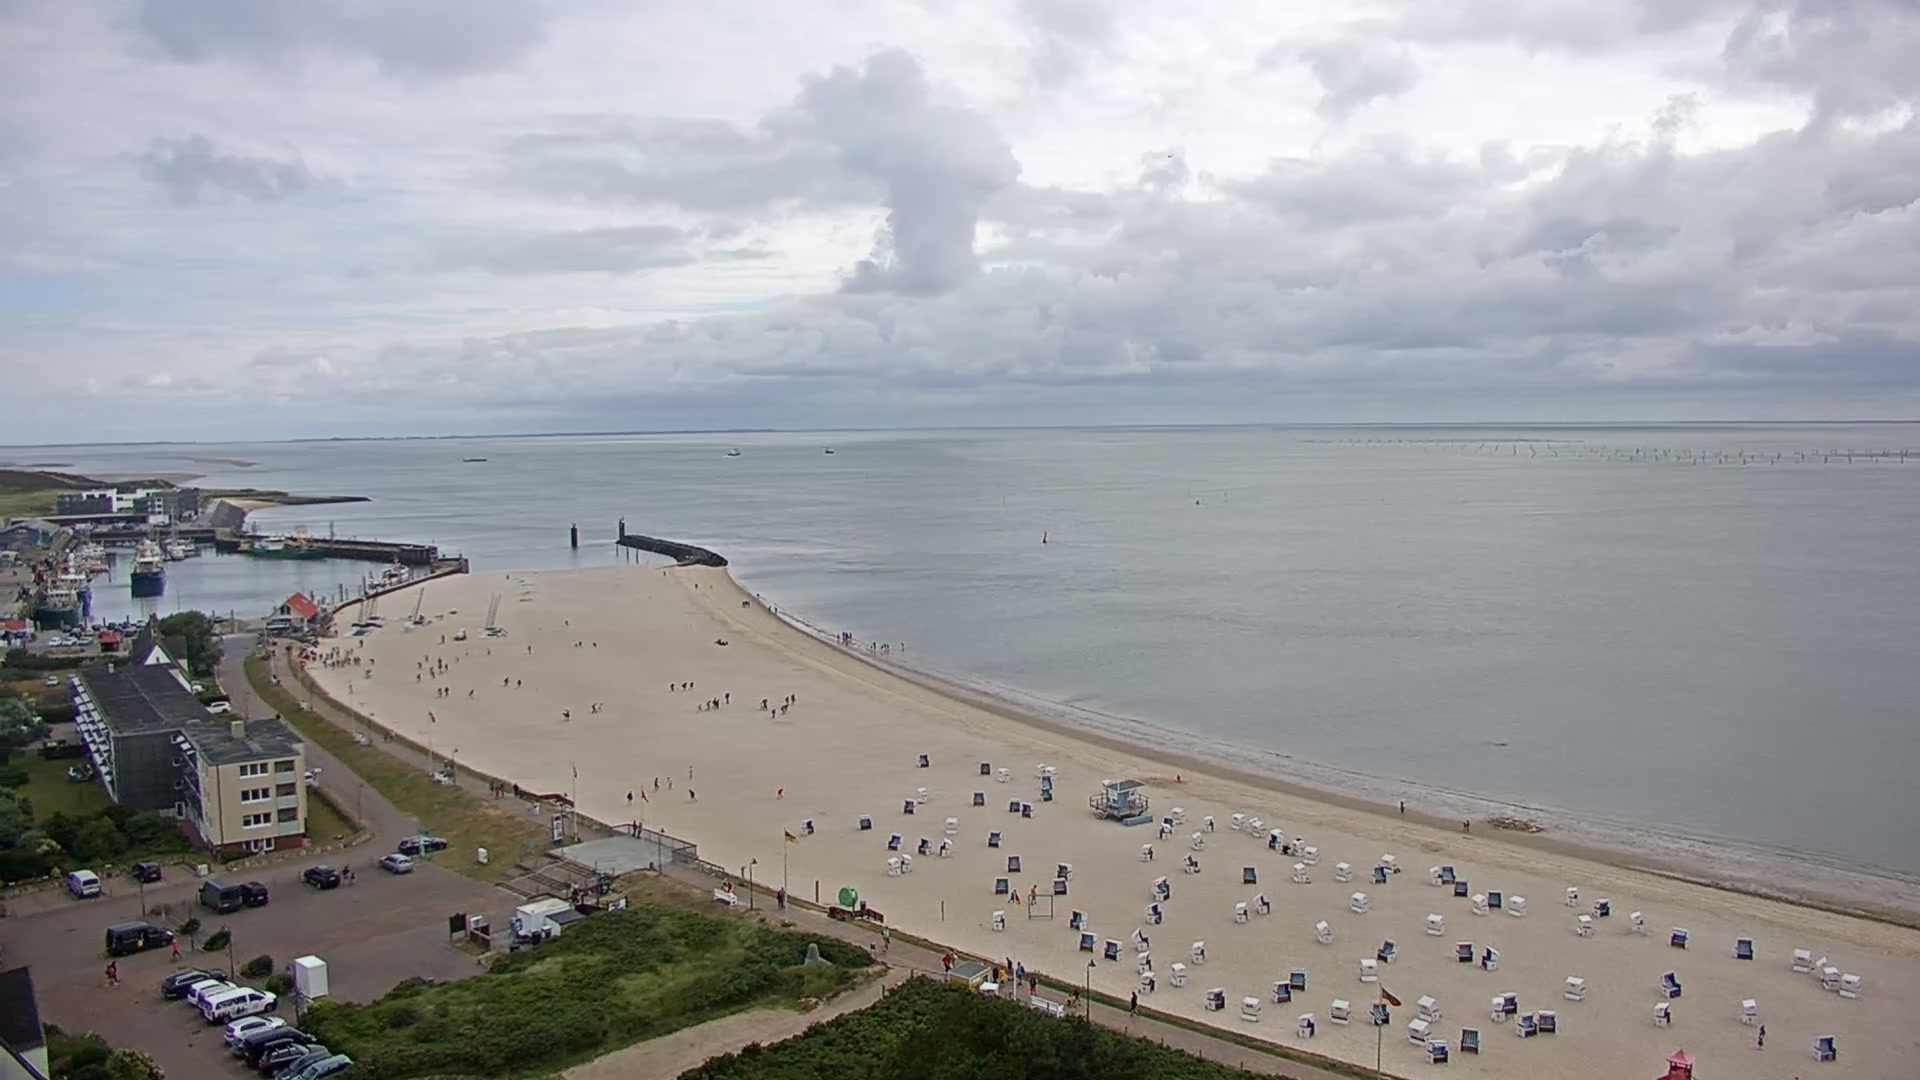human: (104, 961, 118, 984), (940, 952, 952, 974), (879, 924, 889, 952), (946, 946, 957, 967), (1069, 987, 1081, 1007), (1128, 989, 1137, 1016), (1015, 961, 1025, 986), (171, 938, 181, 960), (1758, 1023, 1766, 1048), (1029, 975, 1038, 994), (342, 863, 350, 885), (1028, 882, 1037, 904), (780, 882, 787, 904), (775, 889, 783, 907), (1006, 961, 1014, 979), (999, 967, 1007, 984), (533, 798, 541, 814), (664, 776, 672, 791), (992, 966, 999, 982), (632, 819, 638, 837), (687, 787, 696, 801), (776, 786, 784, 799), (562, 708, 570, 722), (429, 665, 436, 679), (436, 655, 443, 673), (500, 781, 506, 797), (626, 790, 633, 806), (653, 774, 660, 790), (637, 819, 642, 837), (780, 703, 789, 715), (513, 782, 519, 795), (350, 870, 356, 884), (726, 880, 733, 893), (761, 696, 768, 709), (489, 779, 495, 795), (598, 701, 605, 712), (591, 701, 598, 713), (711, 695, 717, 707), (1465, 818, 1470, 832), (363, 668, 370, 678), (357, 637, 364, 647), (447, 757, 453, 767), (494, 784, 500, 798), (468, 688, 475, 699), (720, 880, 727, 890), (681, 680, 687, 691), (669, 681, 675, 691), (845, 631, 851, 643), (436, 686, 442, 697), (348, 682, 354, 693), (791, 691, 796, 703), (725, 692, 731, 704), (715, 697, 720, 710), (885, 641, 890, 653), (346, 655, 352, 664), (504, 676, 510, 686), (454, 654, 460, 663), (689, 679, 695, 689), (330, 660, 335, 670), (440, 757, 446, 768), (388, 732, 393, 742), (784, 694, 790, 704), (705, 699, 711, 710), (274, 711, 281, 719), (322, 651, 328, 659), (416, 661, 422, 669), (1400, 800, 1405, 813), (464, 646, 469, 655), (336, 658, 341, 667), (517, 678, 522, 687), (383, 733, 388, 742), (416, 672, 421, 682), (424, 653, 430, 662), (354, 656, 359, 665), (900, 641, 905, 650), (1004, 954, 1013, 959), (835, 631, 839, 643), (882, 641, 886, 653), (1462, 820, 1467, 832), (577, 639, 583, 648), (439, 632, 443, 642), (694, 581, 699, 590), (317, 651, 322, 660), (336, 647, 342, 656), (330, 647, 335, 656), (321, 658, 326, 666), (444, 685, 449, 695), (444, 662, 448, 672), (527, 644, 532, 654), (369, 657, 375, 665), (771, 707, 776, 718), (1176, 773, 1181, 781), (742, 598, 746, 606), (486, 646, 491, 655), (697, 701, 702, 711), (872, 641, 876, 650), (880, 642, 884, 652), (591, 641, 596, 647), (564, 619, 569, 626), (774, 606, 778, 614), (768, 605, 772, 613), (746, 600, 750, 608), (849, 631, 853, 639), (841, 630, 845, 638), (349, 646, 354, 654), (505, 573, 510, 579), (739, 601, 743, 608), (663, 570, 667, 576), (843, 641, 847, 642)
land: (243, 1025, 316, 1067), (202, 985, 278, 1025), (257, 1038, 327, 1077), (105, 919, 173, 956), (217, 998, 278, 1035), (159, 966, 227, 1000), (223, 1015, 285, 1045), (272, 1050, 333, 1079), (197, 877, 240, 914), (291, 1054, 353, 1079), (186, 979, 238, 1007), (231, 1025, 275, 1058), (197, 983, 236, 1011), (302, 863, 340, 891), (66, 868, 101, 898), (398, 835, 446, 854), (239, 880, 268, 907), (378, 852, 414, 873), (131, 861, 161, 883), (205, 701, 232, 715), (304, 768, 322, 785), (45, 676, 59, 687), (75, 636, 91, 645), (61, 637, 77, 646), (48, 637, 61, 647), (70, 627, 82, 637), (91, 623, 101, 631), (135, 618, 145, 626), (62, 625, 72, 632), (214, 616, 223, 623), (114, 627, 122, 633), (124, 629, 133, 636), (108, 622, 116, 629), (123, 621, 130, 628), (65, 637, 78, 640)
sea: (36, 588, 82, 630), (252, 533, 325, 559), (52, 570, 91, 616), (367, 557, 410, 592), (130, 556, 164, 595), (727, 447, 741, 456), (824, 447, 834, 453)
